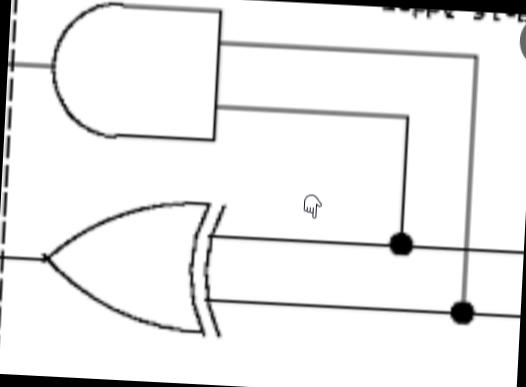and: (37, 0, 231, 153)
xor: (34, 184, 234, 346)
